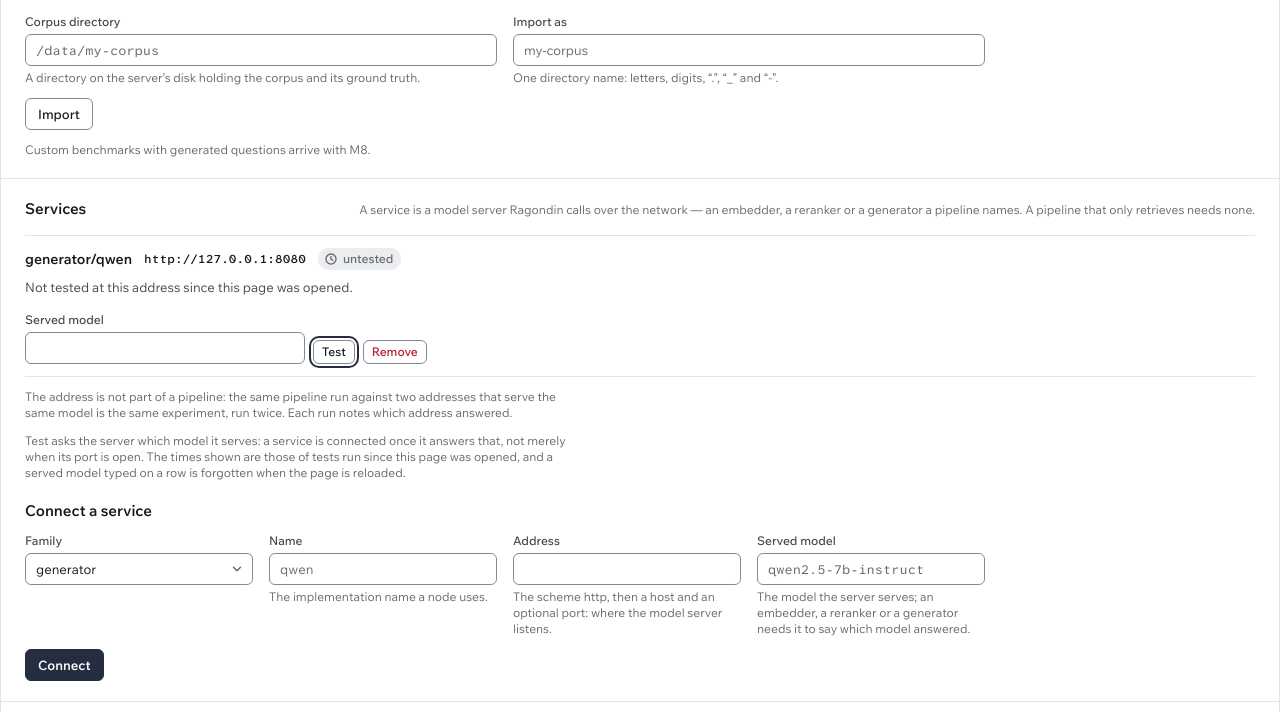
the services › an unreachable probe is an inline message on the row not a toast
The image size is (1280, 712).
(page scrolled)
Click the button with aria-label "Test generator/qwen".
click(334, 352)  # box [313,340,355,364]
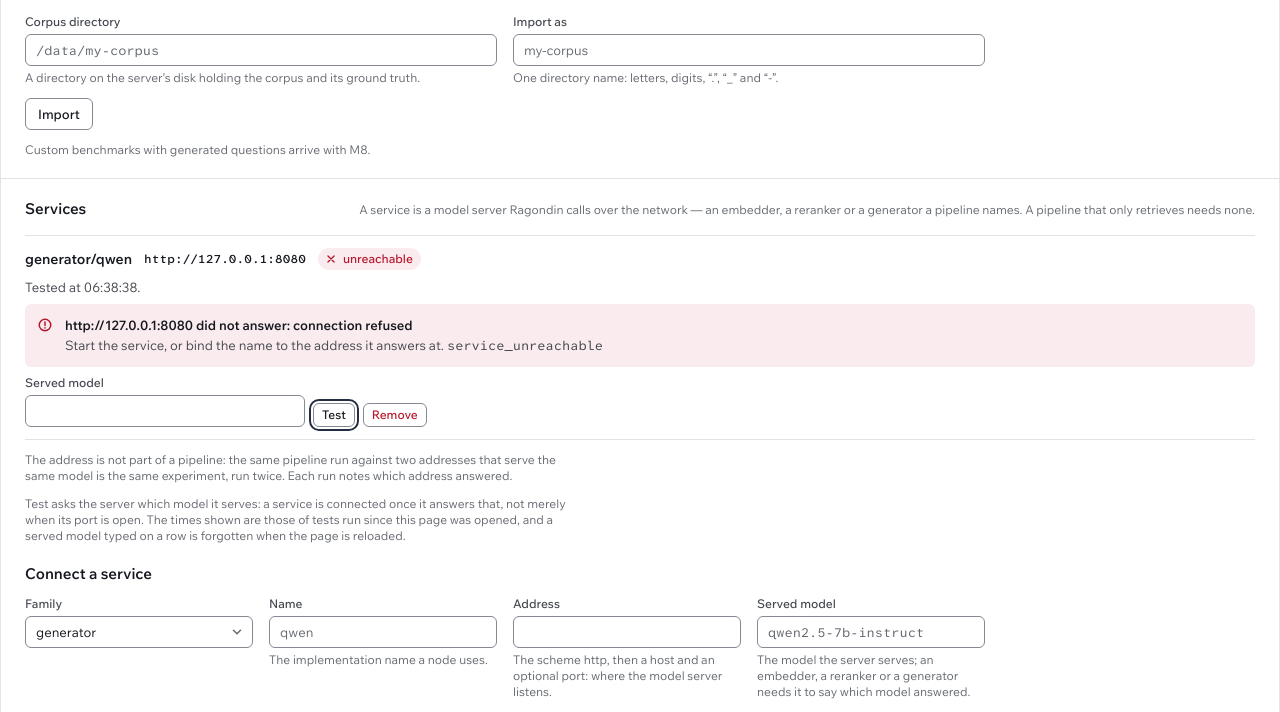
Result: the message shows "http://127.0.0.1:8080 did not answer: connection refused" at [65,317,413,333]
Result: the message shows "Start the service" at [65,337,444,353]
Result: the message shows "service_unreachable" at [447,337,603,354]
